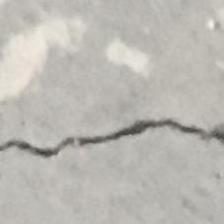Crack: (0, 113, 224, 182)
